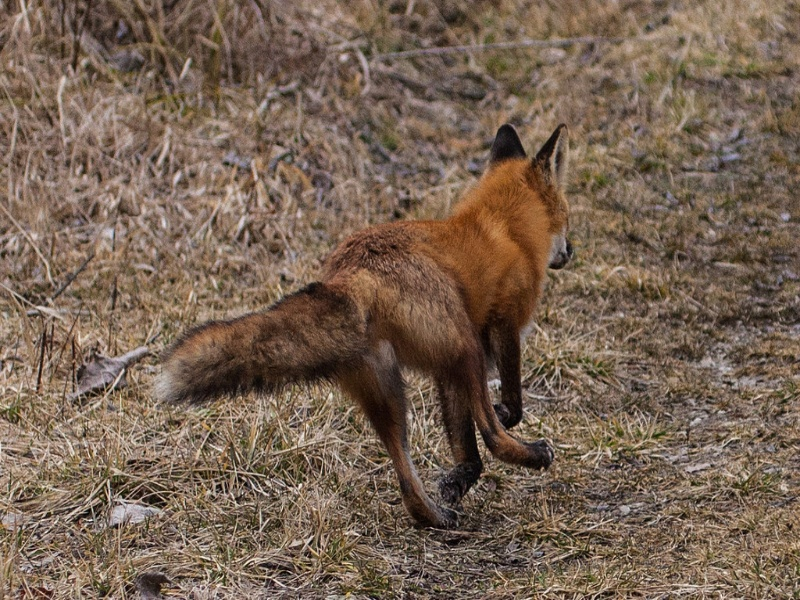fox: (146, 119, 587, 541)
